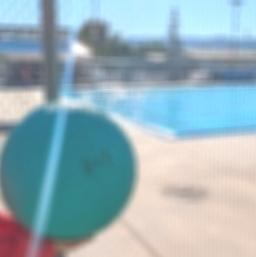algae: (0, 100, 140, 240)
